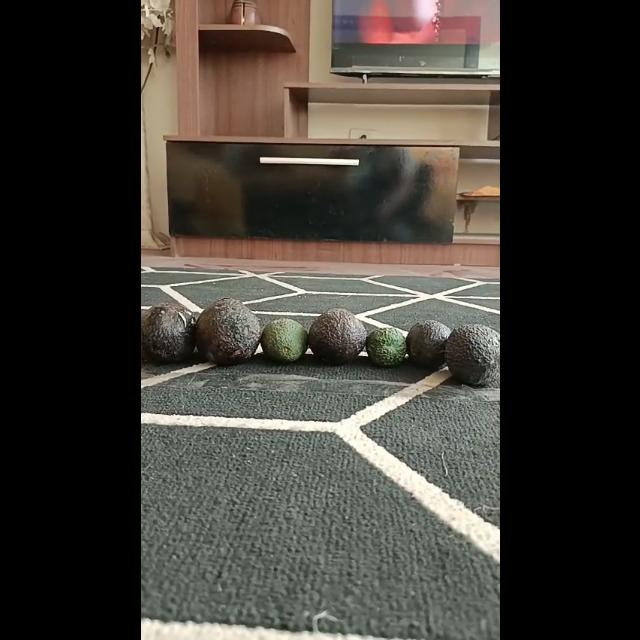Primera: (193, 298, 261, 364), (140, 303, 197, 363), (307, 308, 367, 364), (445, 324, 499, 386)
Segunda: (406, 320, 450, 368), (260, 318, 306, 362)
Tercera: (365, 327, 407, 367)
